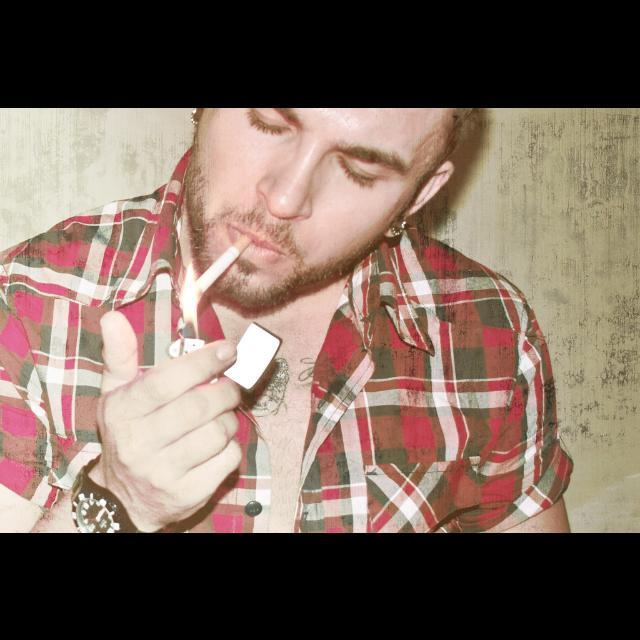rokok: (183, 231, 253, 299)
